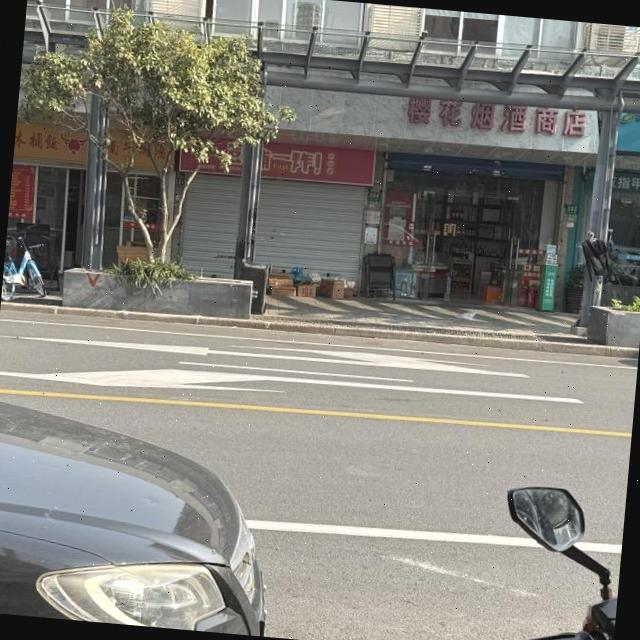curb: (0, 302, 638, 356)
